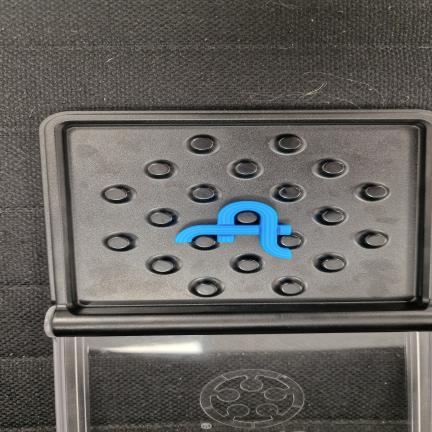B_SkyBlue: (175, 201, 291, 258)
board: (40, 110, 432, 336)
hinge: (51, 309, 431, 334)
pin: (104, 187, 128, 201), (190, 137, 213, 151), (278, 136, 301, 150), (278, 186, 301, 200), (365, 185, 388, 199), (364, 233, 387, 247), (235, 162, 257, 176), (322, 161, 345, 174), (147, 163, 170, 176), (107, 236, 130, 249), (195, 283, 218, 296), (192, 187, 214, 200), (322, 210, 344, 223), (150, 212, 172, 225), (322, 258, 344, 271), (237, 259, 259, 272), (152, 260, 174, 273), (280, 282, 302, 295), (193, 236, 216, 248), (280, 235, 302, 247), (237, 211, 258, 223)
